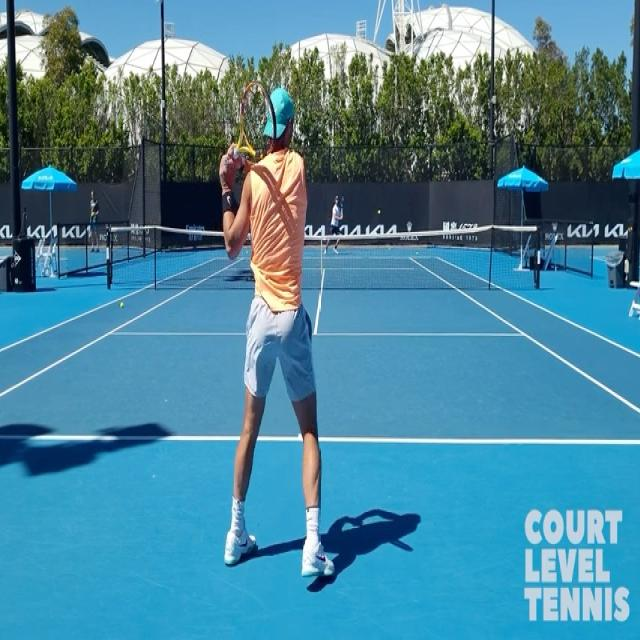backhand-finish: (215, 67, 318, 613)
